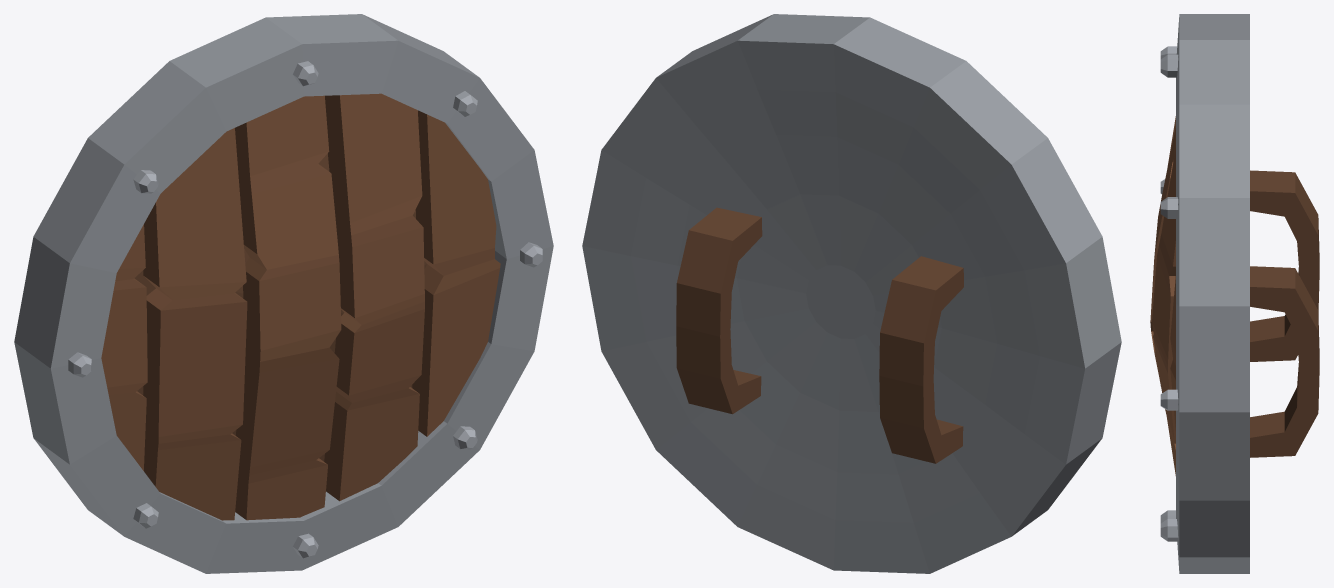
File: Shield Round-lWajrVXcnA.glb
3 views of the same model, side by side, from view 1: azimuth 30°, elevation 25°; view 2: azimuth 150°, elevation 25°; view 3: azimuth 270°, elevation 25° (orthographic). The views are drawn at different scales.
Parts seen in each view (by area): view 1: Shield_Round; view 2: Shield_Round; view 3: Shield_Round.
Part boxes in pixels (x1,y1,x2,y2): Shield_Round: [14, 14, 553, 573]; Shield_Round: [582, 14, 1121, 573]; Shield_Round: [1150, 14, 1319, 573].
Bounding box in the file's own units: 2 × 2 × 0.6037.
